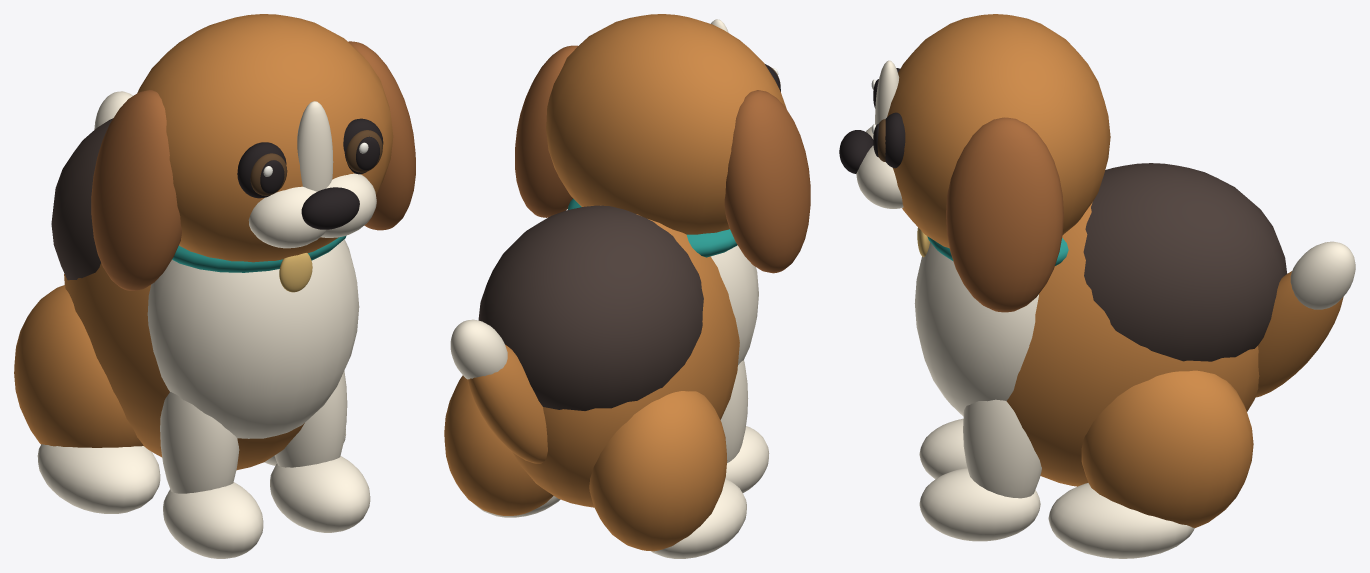
File: beagle.glb
3 renders of one model, left to right at view 1: azimuth 30°, elevation 25°; view 2: azimuth 150°, elevation 25°; view 3: azimuth 270°, elevation 25°, orthographic. The views are drawn at different scales.
Parts seen in each view (by area): view 1: Head, Chest, Floppy ear, Thigh, Body, Hind paw, Foreleg, Front paw, Front paw.001, Black saddle, Floppy ear.001, Foreleg.001 (+13 smaller); view 2: Head, Black saddle, Thigh, Body, Floppy ear, Thigh.001, Floppy ear.001, Tail, Hind paw, Chest, Tail tip, Front paw (+2 smaller); view 3: Black saddle, Head, Body, Thigh.001, Floppy ear.001, Chest, Hind paw.001, Foreleg.001, Front paw.001, Tail, Tail tip, Front paw (+4 smaller).
Part boxes in pixels (left/top/right/bottom): Head: left=137, top=14, right=393, bottom=262; Chest: left=147, top=239, right=359, bottom=438; Floppy ear: left=91, top=90, right=181, bottom=290; Thigh: left=14, top=285, right=143, bottom=447; Body: left=64, top=263, right=304, bottom=470; Hind paw: left=37, top=444, right=160, bottom=513; Foreleg: left=160, top=392, right=239, bottom=493; Front paw: left=163, top=482, right=263, bottom=558; Front paw.001: left=270, top=456, right=370, bottom=532; Black saddle: left=51, top=118, right=113, bottom=280; Floppy ear.001: left=348, top=41, right=415, bottom=230; Foreleg.001: left=274, top=371, right=347, bottom=467; Head: left=546, top=14, right=786, bottom=234; Black saddle: left=478, top=205, right=703, bottom=410; Thigh: left=589, top=391, right=727, bottom=551; Body: left=513, top=205, right=739, bottom=507; Floppy ear: left=724, top=90, right=810, bottom=273; Thigh.001: left=444, top=375, right=553, bottom=515; Floppy ear.001: left=515, top=45, right=577, bottom=217; Tail: left=467, top=344, right=547, bottom=463; Hind paw: left=651, top=478, right=746, bottom=558; Chest: left=711, top=245, right=758, bottom=364; Tail tip: left=450, top=319, right=507, bottom=379; Front paw: left=725, top=426, right=769, bottom=492; Black saddle: left=1083, top=163, right=1287, bottom=361; Head: left=887, top=14, right=1110, bottom=248; Body: left=1006, top=202, right=1259, bottom=486; Thigh.001: left=1081, top=370, right=1253, bottom=527; Floppy ear.001: left=946, top=117, right=1063, bottom=312; Chest: left=914, top=242, right=1038, bottom=416; Hind paw.001: left=1048, top=483, right=1194, bottom=558; Foreleg.001: left=963, top=399, right=1041, bottom=498; Front paw.001: left=919, top=468, right=1040, bottom=541; Tail: left=1255, top=271, right=1343, bottom=397; Tail tip: left=1290, top=241, right=1355, bottom=309; Front paw: left=919, top=418, right=967, bottom=478.
Size of the model in its own units: 1.08 by 1.72 by 1.66.
